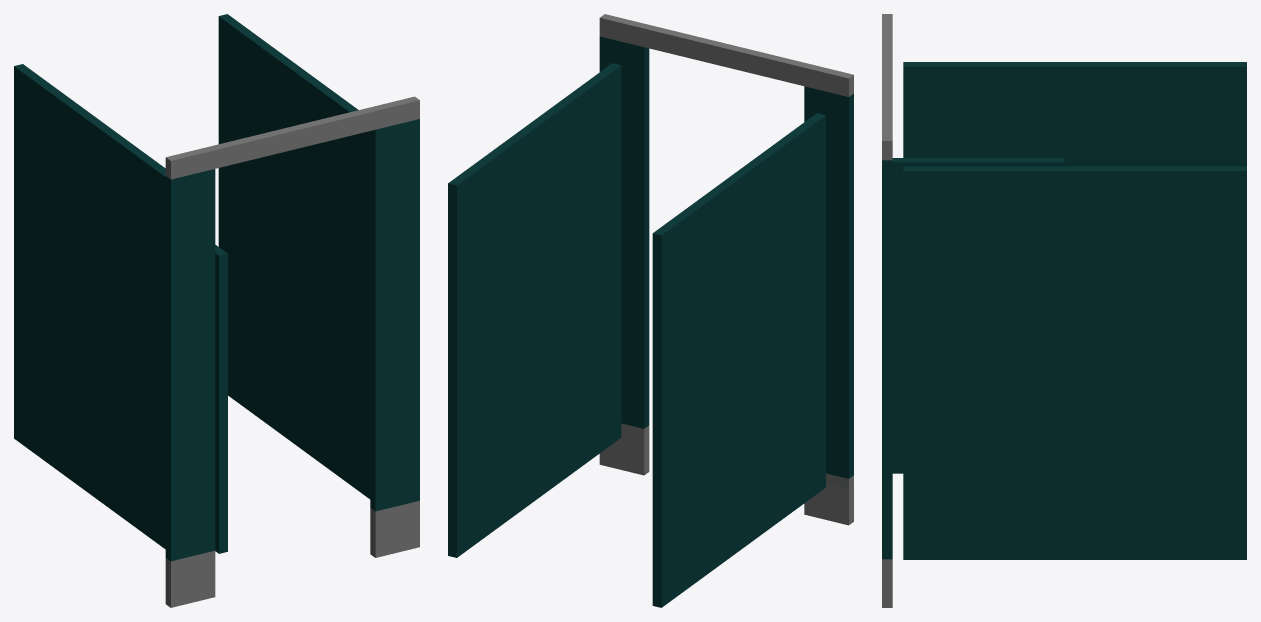
File: stall_colorready.fbx
3 views of the same model, side by side, from view 1: azimuth 30°, elevation 25°; view 2: azimuth 150°, elevation 25°; view 3: azimuth 270°, elevation 25° (orthographic). The views are drawn at different scales.
Visible parts, largest first — view 1: pCube10; view 2: pCube10; view 3: pCube10.
Part boxes in pixels (x1,y1,x2,y2): pCube10: (14,14,419,607); pCube10: (448,14,853,607); pCube10: (882,14,1246,607).
Size of the model in its own units: 175 by 300 by 212.
